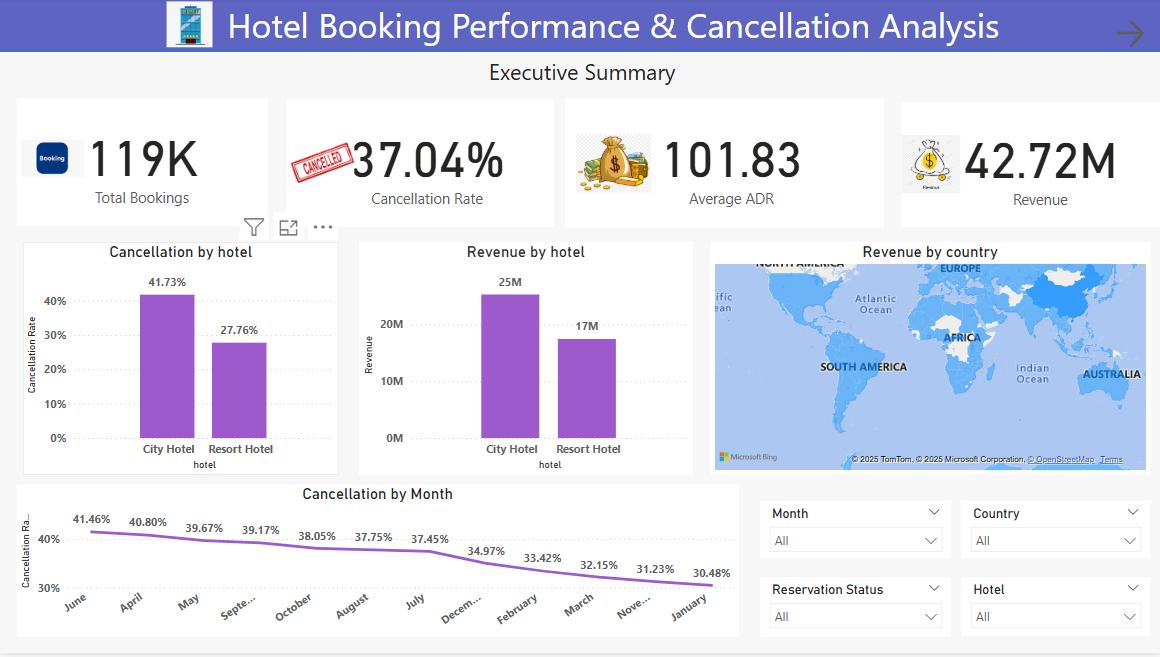

Layout of this report page (visuals, bound fields, positions):
{"tool":"powerbi","page":{"name":"Executive Summary","canvas":[1280,720],"ordinal":0},"visuals":[{"type":"card","fields":{"Values":["vw_all_bookings.Total Bookings"]},"box":[19.2,111.1,275.8,140],"z":0},{"type":"card","fields":{"Values":["vw_all_bookings.Average ADR"]},"box":[621.6,111.1,349.9,142.7],"z":1000},{"type":"card","fields":{"Values":["vw_all_bookings.Revenue"]},"box":[990.7,115.3,289.5,137.2],"z":2000},{"type":"card","fields":{"Values":["vw_all_bookings.Cancellation Rate"]},"box":[315.6,112.5,293.7,140],"z":3000},{"type":"columnChart","title":"Cancellation by hotel","fields":{"Y":["vw_all_bookings.Cancellation Rate"],"Category":["vw_all_bookings.hotel"]},"box":[26.1,269,347.2,255.2],"z":4000},{"type":"filledMap","fields":{"Category":["vw_all_bookings.country"]},"box":[780.8,269,483,255.2],"z":5000},{"type":"lineChart","title":"Cancellation by Month","fields":{"Y":["vw_all_bookings.Cancellation Rate"],"Category":["vw_all_bookings.arrival_date_month"]},"box":[19.2,535.2,793.1,167.4],"z":6000},{"type":"slicer","fields":{"Values":["vw_all_bookings.hotel"]},"box":[1056.6,636.7,207.2,64.5],"z":7000},{"type":"slicer","fields":{"Values":["vw_all_bookings.country"]},"box":[1056.6,553,207.2,63.1],"z":8000},{"type":"slicer","fields":{"Values":["vw_all_bookings.arrival_date_month"]},"box":[835.7,553,209.9,63.1],"z":9000},{"type":"shape","box":[0,0,1280.3,60.4],"z":10000},{"type":"textbox","box":[68.6,0,1211.7,60.4],"z":11000},{"type":"image","box":[140,0,138.6,60.4],"z":12000},{"type":"textbox","box":[0,60.4,1280.3,50.8],"z":13000},{"type":"image","box":[628.5,113.9,91.9,137.2],"z":14000},{"type":"slicer","fields":{"Values":["vw_all_bookings.reservation_status"]},"box":[835.7,636.7,209.9,65.9],"z":15000},{"type":"columnChart","fields":{"Y":["vw_all_bookings.Revenue"],"Category":["vw_all_bookings.hotel"]},"box":[395.2,269,366.4,255.2],"z":16000},{"type":"actionButton","box":[1221.3,20.6,59,39.8],"z":16001},{"type":"image","box":[19.2,112.5,78.2,129],"z":16002},{"type":"image","box":[315.6,140,79.6,83.7],"z":16003},{"type":"image","box":[934.5,146.8,177,74.1],"z":16004}]}

Visuals, with their boxes in screenshot pixels (x1, y1, x2, y2), scaled from the page's 1280x720 canvas onto the 1160x657 screenshot:
card - vw_all_bookings.Total Bookings: <bbox>17, 101, 267, 229</bbox>
card - vw_all_bookings.Average ADR: <bbox>563, 101, 880, 232</bbox>
card - vw_all_bookings.Revenue: <bbox>898, 105, 1159, 230</bbox>
card - vw_all_bookings.Cancellation Rate: <bbox>286, 103, 552, 230</bbox>
"Cancellation by hotel" columnChart: <bbox>24, 245, 338, 478</bbox>
filledMap - vw_all_bookings.country: <bbox>708, 245, 1145, 478</bbox>
"Cancellation by Month" lineChart: <bbox>17, 488, 736, 641</bbox>
slicer - vw_all_bookings.hotel: <bbox>958, 581, 1145, 640</bbox>
slicer - vw_all_bookings.country: <bbox>958, 505, 1145, 562</bbox>
slicer - vw_all_bookings.arrival_date_month: <bbox>757, 505, 948, 562</bbox>
shape: <bbox>0, 0, 1159, 55</bbox>
textbox: <bbox>62, 0, 1159, 55</bbox>
image: <bbox>127, 0, 252, 55</bbox>
textbox: <bbox>0, 55, 1159, 101</bbox>
image: <bbox>570, 104, 653, 229</bbox>
slicer - vw_all_bookings.reservation_status: <bbox>757, 581, 948, 641</bbox>
columnChart - vw_all_bookings.Revenue x vw_all_bookings.hotel: <bbox>358, 245, 690, 478</bbox>
actionButton: <bbox>1107, 19, 1159, 55</bbox>
image: <bbox>17, 103, 88, 220</bbox>
image: <bbox>286, 128, 358, 204</bbox>
image: <bbox>847, 134, 1007, 202</bbox>
